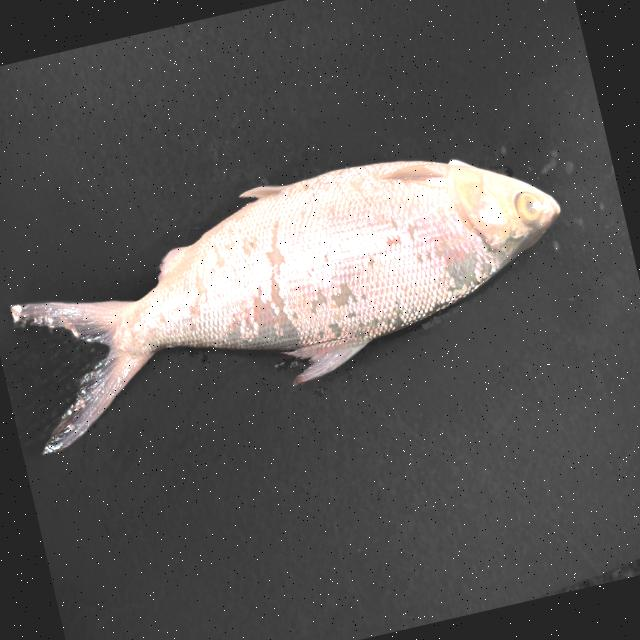895 g: (0, 120, 588, 454)
